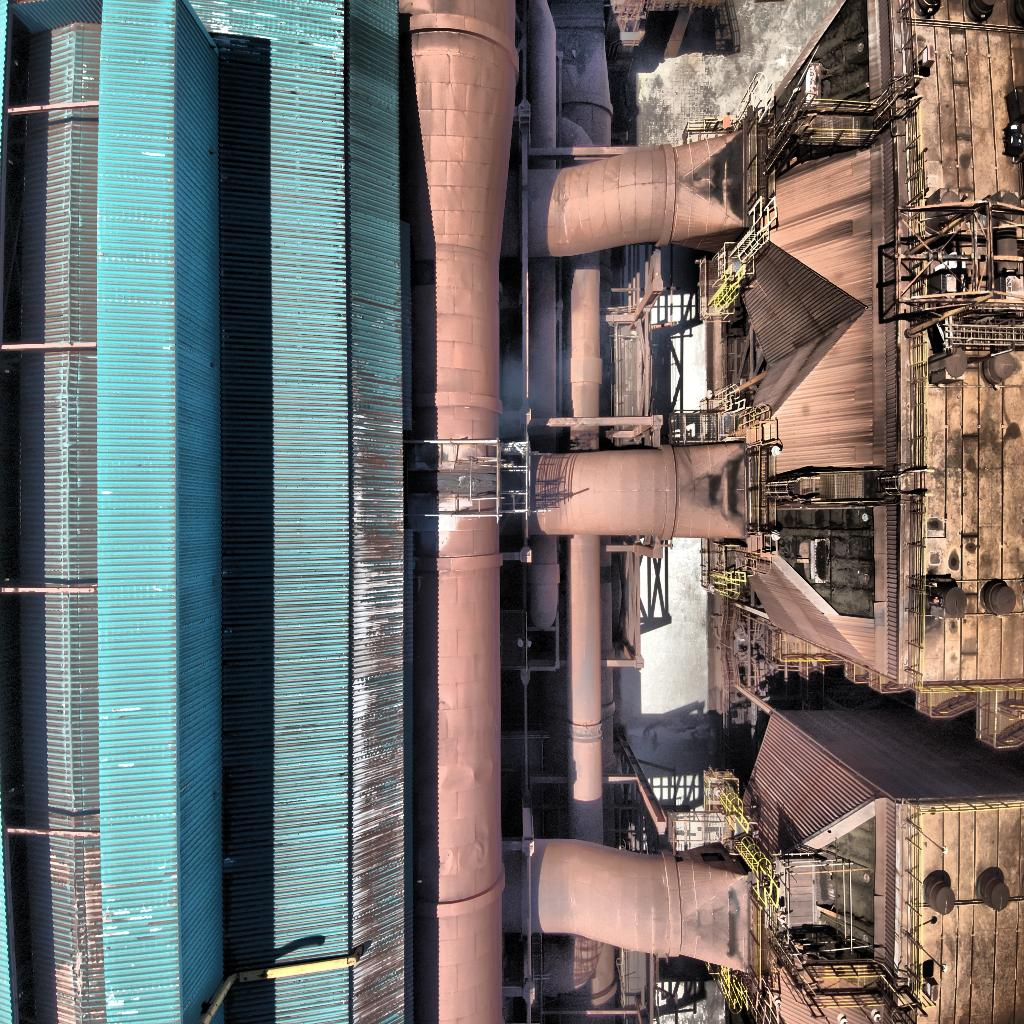Failures: (760, 10, 874, 175), (768, 498, 877, 622), (814, 811, 882, 959), (408, 468, 494, 498)
